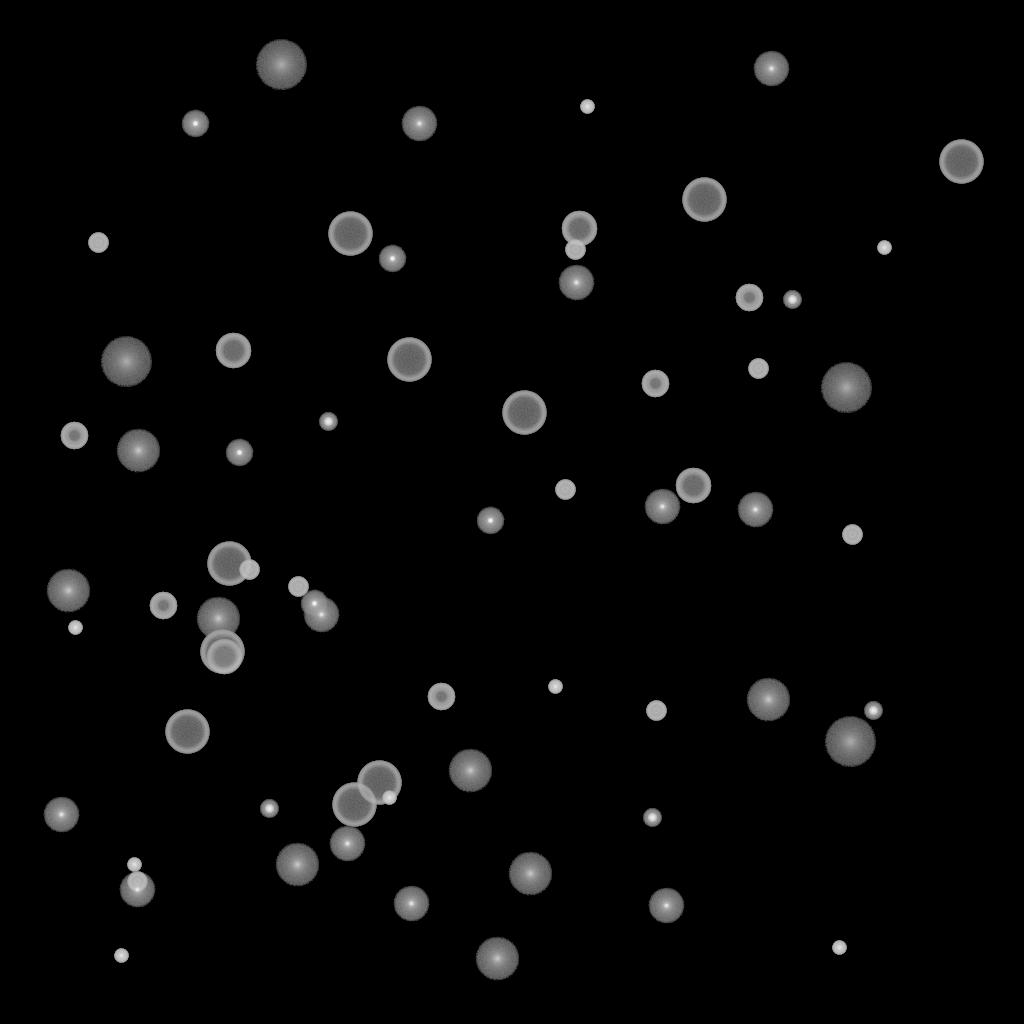depth:-10: (476, 507, 504, 535), (181, 110, 209, 138), (378, 245, 406, 273), (300, 590, 328, 618), (225, 439, 253, 467)
depth:-20: (864, 702, 882, 720), (783, 291, 801, 309), (260, 800, 278, 818), (643, 809, 661, 827), (319, 413, 337, 431)
depth:-30: (114, 949, 128, 963), (127, 858, 141, 872), (548, 680, 562, 694), (68, 621, 82, 635), (877, 241, 891, 255), (382, 791, 396, 805), (580, 100, 594, 114), (832, 941, 846, 955)
depth:-40: (565, 240, 585, 260), (748, 359, 768, 379), (239, 560, 259, 580), (127, 872, 147, 892), (842, 525, 862, 545), (646, 701, 666, 721), (88, 233, 108, 253), (555, 480, 575, 500), (288, 577, 308, 597)
depth:-50: (735, 284, 763, 312), (427, 683, 455, 711), (641, 370, 669, 398), (60, 422, 88, 450), (149, 592, 177, 620)
depth:-60: (206, 639, 242, 675), (215, 333, 251, 369), (561, 211, 597, 247), (675, 468, 711, 504)
depth:-70: (682, 178, 726, 222), (357, 761, 401, 805), (207, 542, 251, 586), (332, 783, 376, 827), (502, 391, 546, 435), (939, 140, 983, 184), (387, 338, 431, 382), (200, 630, 244, 674), (328, 212, 372, 256), (165, 710, 209, 754)
depth:0: (648, 888, 684, 924), (753, 51, 789, 87), (393, 886, 429, 922), (737, 492, 773, 528), (558, 265, 594, 301), (329, 826, 365, 862), (644, 489, 680, 525), (401, 106, 437, 142), (303, 597, 339, 633), (43, 797, 79, 833), (119, 872, 155, 908)
depth:10: (746, 678, 790, 722), (475, 937, 519, 981), (448, 749, 492, 793), (508, 852, 552, 896), (275, 843, 319, 887), (46, 569, 90, 613), (116, 429, 160, 473), (196, 597, 240, 641)
depth:20: (824, 717, 876, 767), (255, 40, 307, 90), (820, 363, 872, 413), (100, 337, 152, 387)
